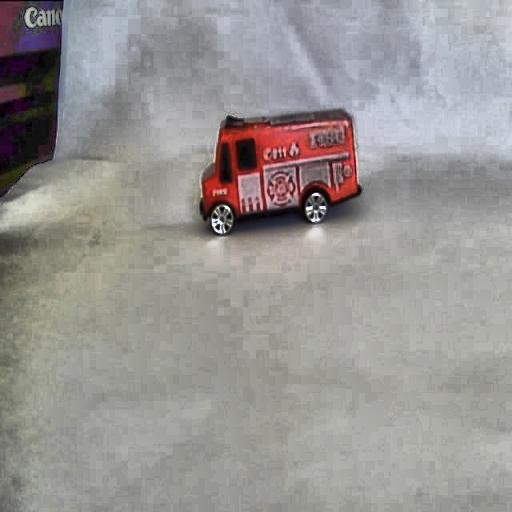fire_truck: (194, 106, 364, 241), (276, 126, 326, 164)
